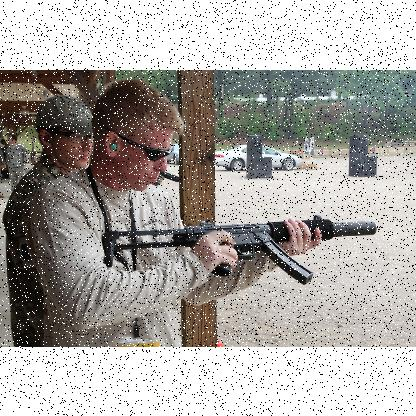gun: (100, 214, 376, 282)
